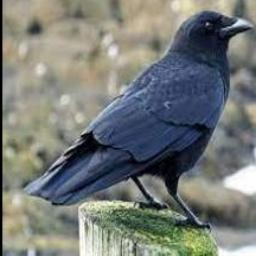Crow: (23, 9, 251, 230)
